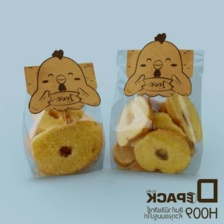snack: (104, 28, 210, 180), (17, 43, 107, 183)
